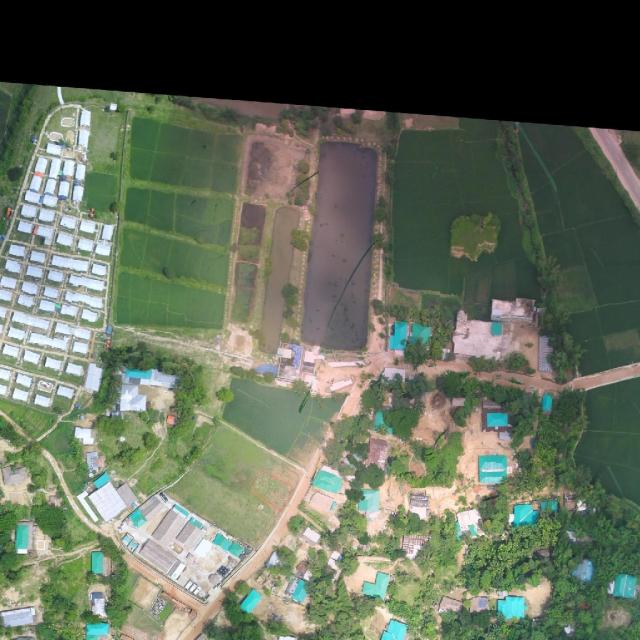agricultural_land: (369, 112, 543, 333), (511, 101, 640, 376), (167, 419, 304, 550), (113, 227, 231, 334), (216, 373, 343, 469), (125, 116, 245, 194), (121, 186, 234, 246)
building: (111, 478, 254, 611), (452, 300, 535, 358), (87, 481, 129, 524), (387, 321, 432, 356), (312, 467, 346, 497), (361, 568, 391, 599), (119, 384, 148, 414), (0, 606, 37, 629), (479, 455, 508, 483), (357, 489, 380, 521), (238, 588, 264, 616), (497, 596, 527, 619), (611, 573, 638, 598), (512, 503, 540, 527), (15, 521, 33, 554), (291, 579, 312, 604), (86, 622, 110, 639), (486, 412, 508, 428), (86, 451, 100, 473), (125, 369, 152, 379), (91, 551, 102, 574), (541, 393, 553, 412)
greenland: (451, 512, 576, 604), (93, 339, 211, 422), (479, 363, 555, 449), (528, 389, 592, 491), (384, 575, 459, 640), (413, 505, 475, 582), (407, 422, 468, 498), (306, 570, 370, 639), (459, 538, 543, 590), (322, 409, 374, 472), (108, 425, 159, 473), (28, 495, 75, 543), (16, 442, 53, 493), (383, 405, 422, 443), (358, 373, 389, 416), (399, 370, 434, 404), (435, 369, 470, 398), (94, 414, 126, 438)
metalled_road: (588, 116, 640, 212)
unmetalled_road: (36, 446, 101, 537)
